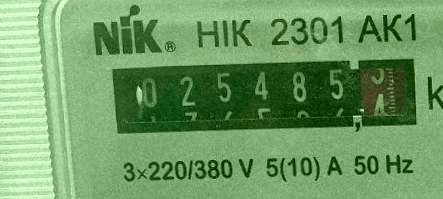0: (137, 73, 159, 109)
2: (176, 72, 197, 108)
4: (249, 67, 271, 102), (369, 90, 389, 118)
5: (324, 65, 346, 102), (212, 68, 233, 104)
8: (288, 66, 309, 104)
screen: (102, 50, 425, 145)
